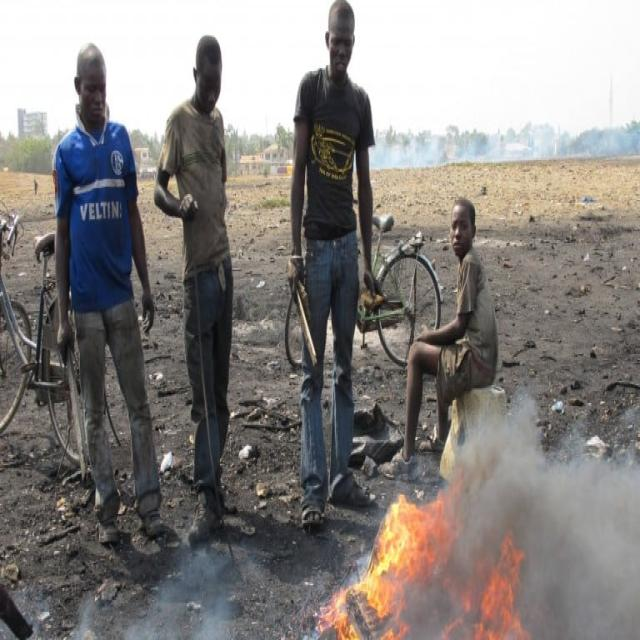fire: (374, 493, 441, 605), (476, 563, 521, 640)
smoke: (531, 454, 638, 638), (469, 418, 529, 529)
